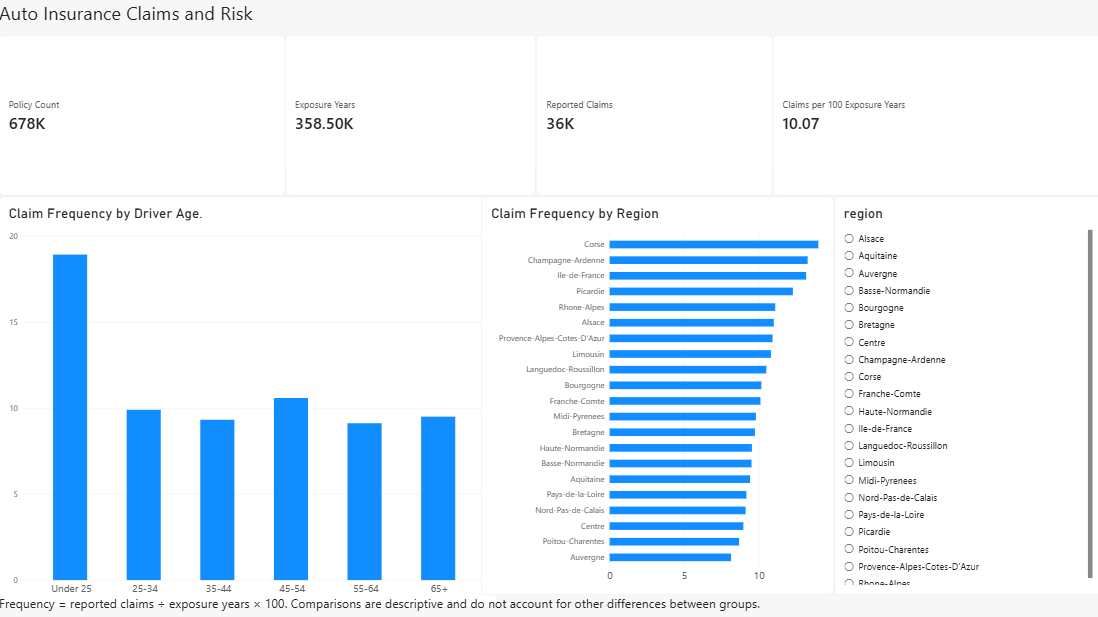

What the dashboard file says about the page in this screenshot:
{"tool":"powerbi","page":{"name":"Policy Risk Overview","canvas":[1920,1080],"ordinal":0},"visuals":[{"type":"cardVisual","fields":{"Data":["Policies.Policy Count"]},"box":[0,61.7,498.1,279.9],"z":0},{"type":"cardVisual","fields":{"Data":["Claims.Reported Claims"]},"box":[934.2,61.7,411.7,279.9],"z":1000},{"type":"cardVisual","fields":{"Data":["Claims.Exposure Years"]},"box":[498,61.7,436.4,279.9],"z":2000},{"type":"cardVisual","fields":{"Data":["Claims.Claims per 100 Exposure Years"]},"box":[1345.7,61.7,574.3,279.9],"z":3000},{"type":"clusteredColumnChart","title":"Claim Frequency by Driver Age.","fields":{"Category":["Policies.driver_age_band"],"Y":["Claims.Claims per 100 Exposure Years"]},"box":[0,341.7,866.6,716.3],"z":4000},{"type":"listSlicer","fields":{"Values":["Policies.region"]},"box":[1453.2,341.7,467.2,693.7],"z":5000},{"type":"clusteredBarChart","title":"Claim Frequency by Region","fields":{"Category":["Policies.region"],"Y":["Claims.Claims per 100 Exposure Years"]},"box":[839.8,341.7,613.4,693.7],"z":6000},{"type":"textbox","box":[0,0,1920.4,61.7],"z":7000},{"type":"textbox","box":[0,1035.3,1360.6,45.3],"z":8000}]}

Visuals, with their boxes in screenshot pixels (x1, y1, x2, y2), scaled from the page's 1920x1080 canvas onto the 1098x617 screenshot:
cardVisual - Policies.Policy Count: pyautogui.locateOnScreen(0, 35, 285, 195)
cardVisual - Claims.Reported Claims: pyautogui.locateOnScreen(534, 35, 770, 195)
cardVisual - Claims.Exposure Years: pyautogui.locateOnScreen(285, 35, 534, 195)
cardVisual - Claims.Claims per 100 Exposure Years: pyautogui.locateOnScreen(770, 35, 1097, 195)
"Claim Frequency by Driver Age." clusteredColumnChart: pyautogui.locateOnScreen(0, 195, 496, 604)
listSlicer - Policies.region: pyautogui.locateOnScreen(831, 195, 1097, 592)
"Claim Frequency by Region" clusteredBarChart: pyautogui.locateOnScreen(480, 195, 831, 592)
textbox: pyautogui.locateOnScreen(0, 0, 1097, 35)
textbox: pyautogui.locateOnScreen(0, 591, 778, 616)
